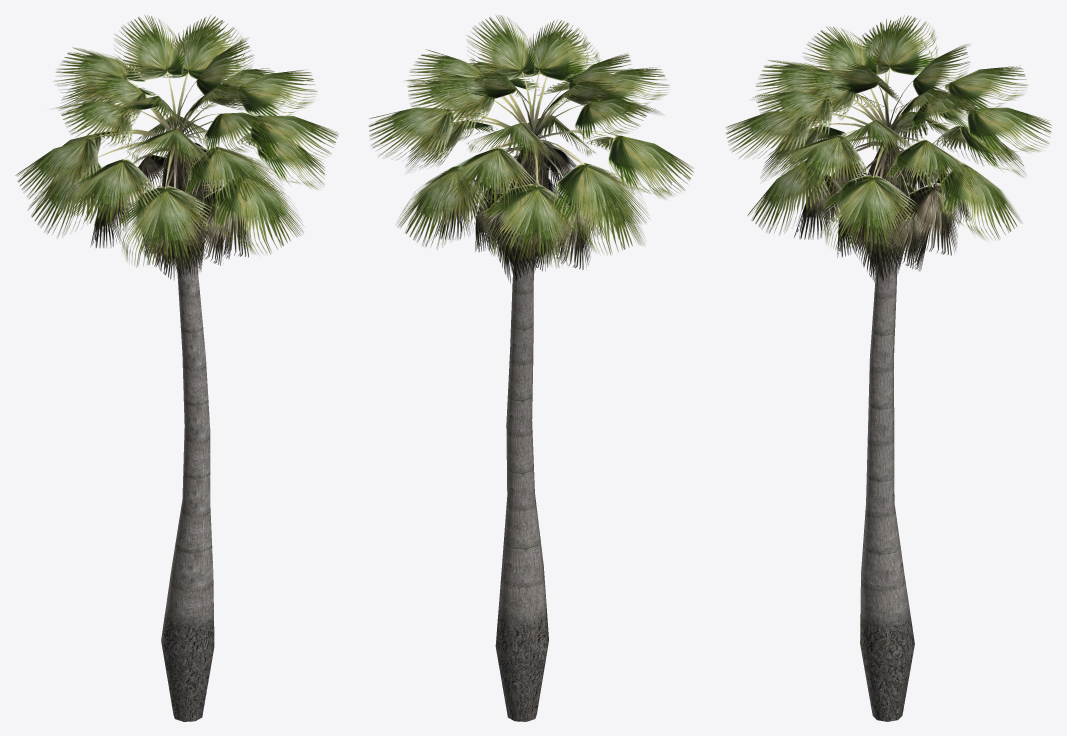
The model's file is treeSwamp1.glb.
3 views of the same model, side by side, from view 1: azimuth 30°, elevation 25°; view 2: azimuth 150°, elevation 25°; view 3: azimuth 270°, elevation 25° (orthographic).
Parts seen in each view (by area): view 1: Palm 2 Bark.001, Palm 2 Healthy Leaves 5.001, Palm 2 Healthy Leaves 6.001, Palm 2 Healthy Leaves 11.001, Palm 2 Healthy Leaves 8.001, Palm 2 Healthy Leaves 13.001, Palm 2 Healthy Leaves 12.001, Palm 2 Healthy Leaves 7.001, Palm 2 Healthy Leaves 22.001, Palm 2 Healthy Leaves 23.001, Palm 2 Healthy Leaves 2.001, Palm 2 Healthy Leaves 21.001 (+17 smaller); view 2: Palm 2 Bark.001, Palm 2 Healthy Leaves 1.001, Palm 2 Healthy Leaves 12.001, Palm 2 Healthy Leaves 3.001, Palm 2 Healthy Leaves 10.001, Palm 2 Healthy Leaves 9.001, Palm 2 Healthy Leaves 11.001, Palm 2 Healthy Leaves 17.001, Palm 2 Healthy Leaves 18.001, Palm 2 Healthy Leaves 2.001, Palm 2 Healthy Leaves 21.001, Palm 2 Healthy Leaves 24.001 (+18 smaller); view 3: Palm 2 Bark.001, Palm 2 Healthy Leaves 4.001, Palm 2 Healthy Leaves 7.001, Palm 2 Healthy Leaves 3.001, Palm 2 Healthy Leaves 9.001, Palm 2 Healthy Leaves 10.001, Palm 2 Healthy Leaves 6.001, Palm 2 Dead Leaves 10.001, Palm 2 Healthy Leaves 15.001, Palm 2 Healthy Leaves 8.001, Palm 2 Healthy Leaves 16.001, Palm 2 Healthy Leaves 20.001 (+18 smaller).
Boxes of the visible parts, x1,y1,x2,y2 form: Palm 2 Bark.001: [161, 252, 214, 721]; Palm 2 Healthy Leaves 5.001: [115, 142, 214, 267]; Palm 2 Healthy Leaves 6.001: [197, 145, 303, 254]; Palm 2 Healthy Leaves 11.001: [61, 143, 162, 233]; Palm 2 Healthy Leaves 8.001: [182, 135, 283, 212]; Palm 2 Healthy Leaves 13.001: [114, 15, 184, 128]; Palm 2 Healthy Leaves 12.001: [15, 131, 158, 204]; Palm 2 Healthy Leaves 7.001: [185, 115, 338, 164]; Palm 2 Healthy Leaves 22.001: [54, 47, 171, 130]; Palm 2 Healthy Leaves 23.001: [184, 69, 317, 128]; Palm 2 Healthy Leaves 2.001: [27, 141, 147, 238]; Palm 2 Healthy Leaves 21.001: [51, 101, 169, 148]; Palm 2 Bark.001: [495, 248, 548, 721]; Palm 2 Healthy Leaves 1.001: [478, 146, 578, 267]; Palm 2 Healthy Leaves 12.001: [540, 139, 649, 238]; Palm 2 Healthy Leaves 3.001: [396, 141, 517, 249]; Palm 2 Healthy Leaves 10.001: [437, 139, 538, 214]; Palm 2 Healthy Leaves 9.001: [369, 107, 510, 160]; Palm 2 Healthy Leaves 11.001: [538, 130, 693, 195]; Palm 2 Healthy Leaves 17.001: [466, 15, 535, 132]; Palm 2 Healthy Leaves 18.001: [521, 19, 591, 132]; Palm 2 Healthy Leaves 2.001: [542, 141, 644, 254]; Palm 2 Healthy Leaves 21.001: [535, 99, 663, 141]; Palm 2 Healthy Leaves 24.001: [405, 80, 521, 133]; Palm 2 Bark.001: [860, 249, 914, 721]; Palm 2 Healthy Leaves 4.001: [817, 138, 918, 256]; Palm 2 Healthy Leaves 7.001: [769, 130, 871, 200]; Palm 2 Healthy Leaves 3.001: [901, 136, 1022, 239]; Palm 2 Healthy Leaves 9.001: [884, 130, 983, 196]; Palm 2 Healthy Leaves 10.001: [895, 107, 1051, 157]; Palm 2 Healthy Leaves 6.001: [747, 136, 872, 235]; Palm 2 Dead Leaves 10.001: [896, 145, 960, 255]; Palm 2 Healthy Leaves 15.001: [870, 15, 937, 126]; Palm 2 Healthy Leaves 8.001: [725, 111, 867, 158]; Palm 2 Healthy Leaves 16.001: [803, 26, 886, 125]; Palm 2 Healthy Leaves 20.001: [752, 91, 874, 136].
Size of the model in its own units: 8.56 by 20.3 by 8.95.
Materials: 3 (3 with a texture image).
